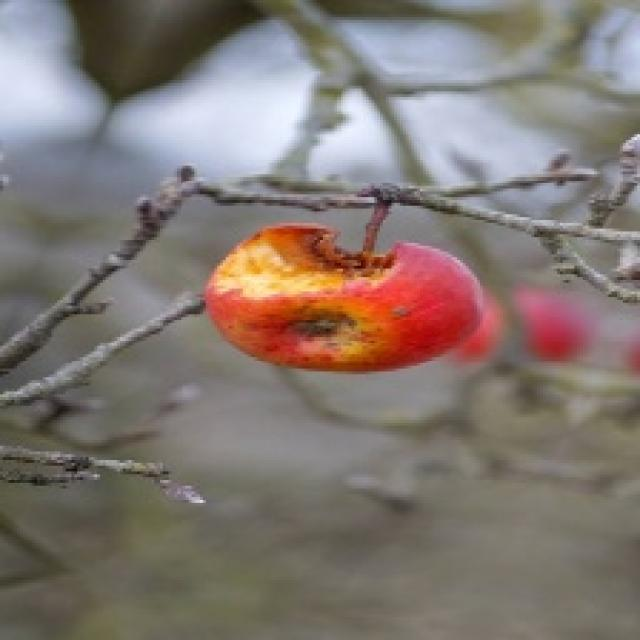rotten_apple: (211, 223, 484, 364)
